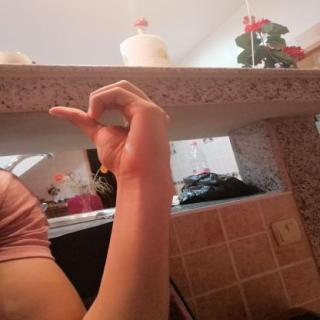WAW: (38, 72, 190, 191)
